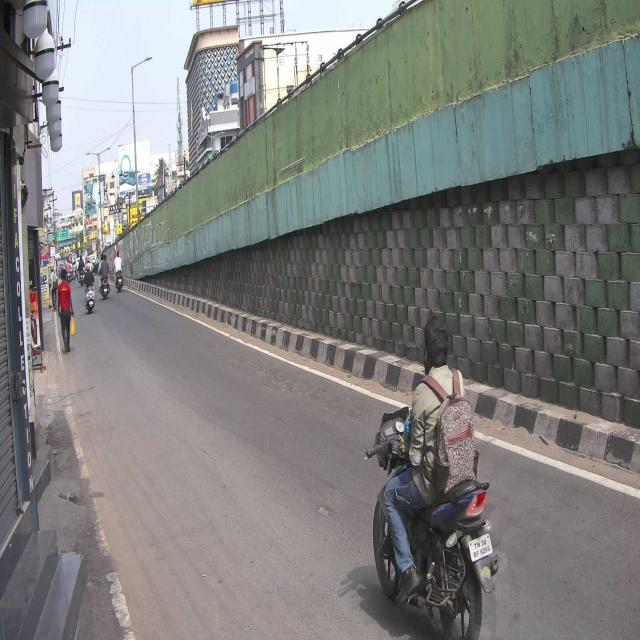single_rider: (365, 309, 502, 640)
